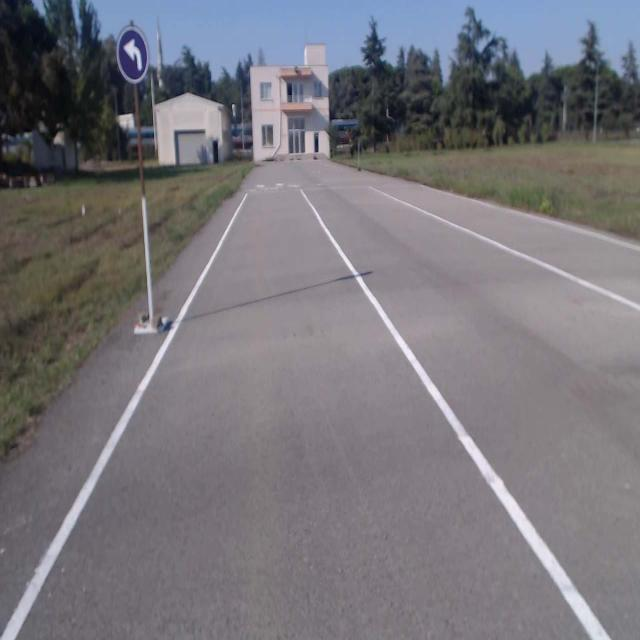sol: (116, 26, 149, 82)
